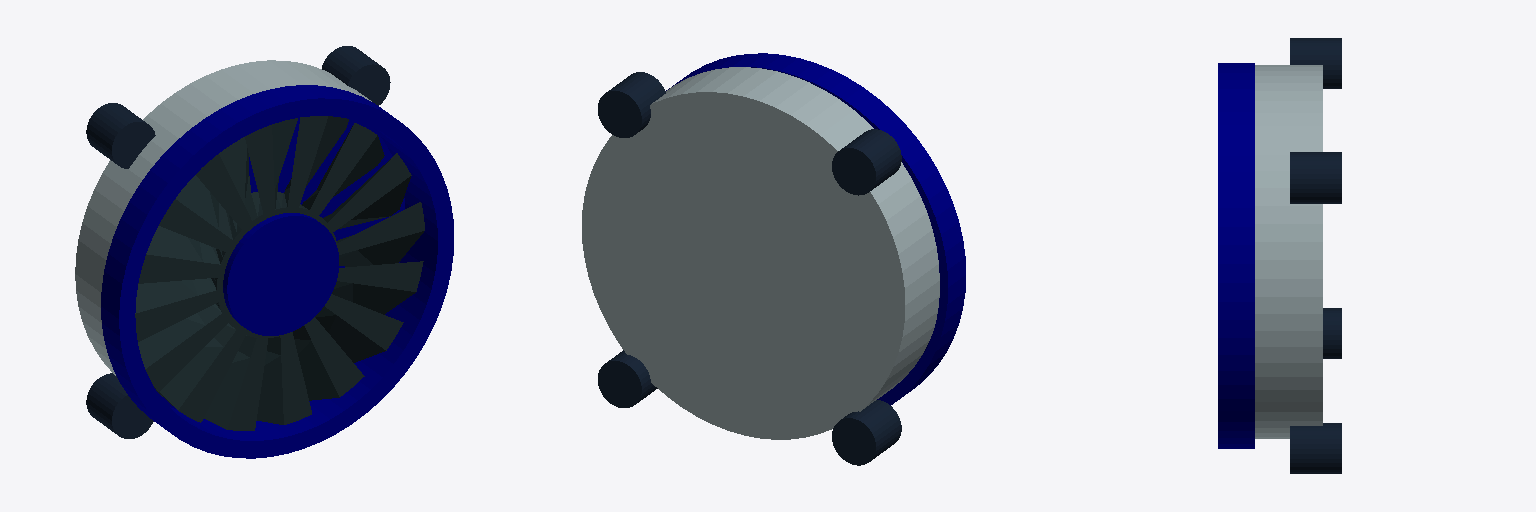
3 views of the same model, side by side, from view 1: azimuth 30°, elevation 25°; view 2: azimuth 150°, elevation 25°; view 3: azimuth 270°, elevation 25° (orthographic).
Visible parts, largest first — view 1: Fan_Cube.223; view 2: Fan_Cube.223; view 3: Fan_Cube.223.
Boxes of the visible parts, x1,y1,x2,y2 form: Fan_Cube.223: [75, 46, 453, 458]; Fan_Cube.223: [582, 53, 965, 465]; Fan_Cube.223: [1218, 38, 1341, 473].
Bounding box in the file's own units: 2.01 × 2.01 × 0.6395.
2 materials, 1 textured.